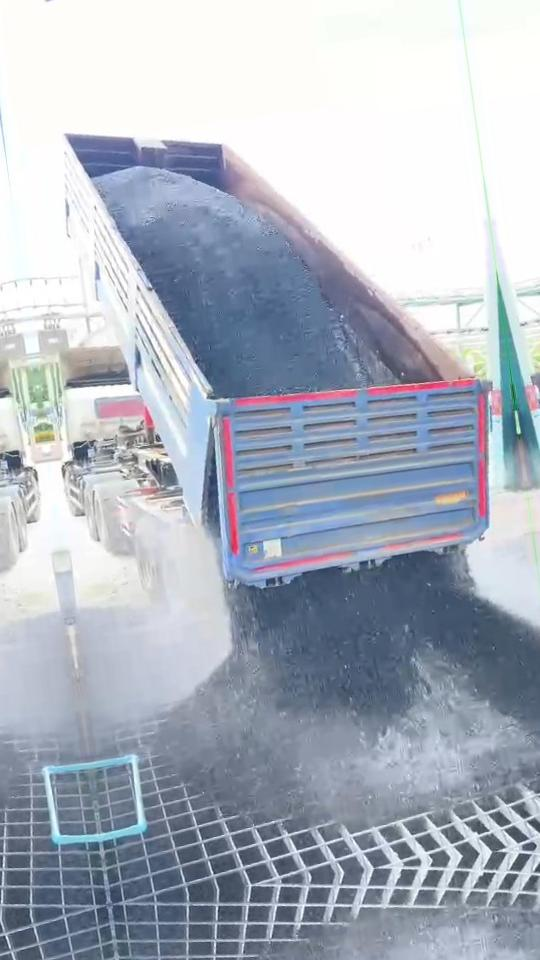gravel: (155, 553, 540, 825), (95, 167, 390, 396)
